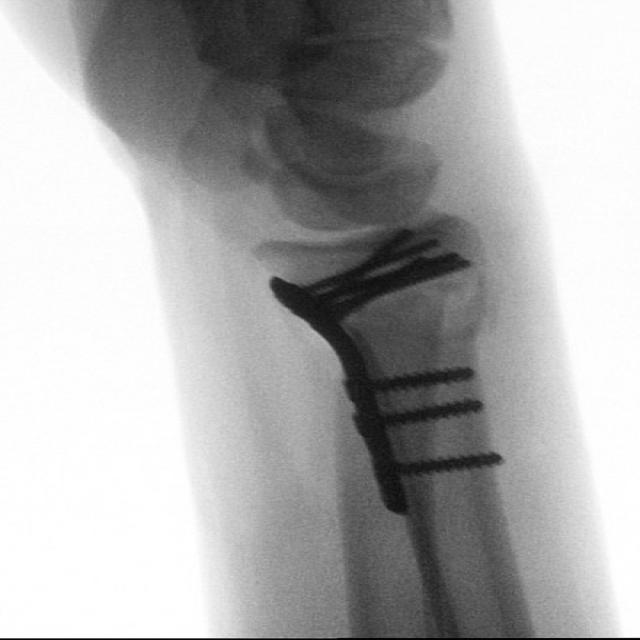x-ray: (259, 218, 518, 526)
